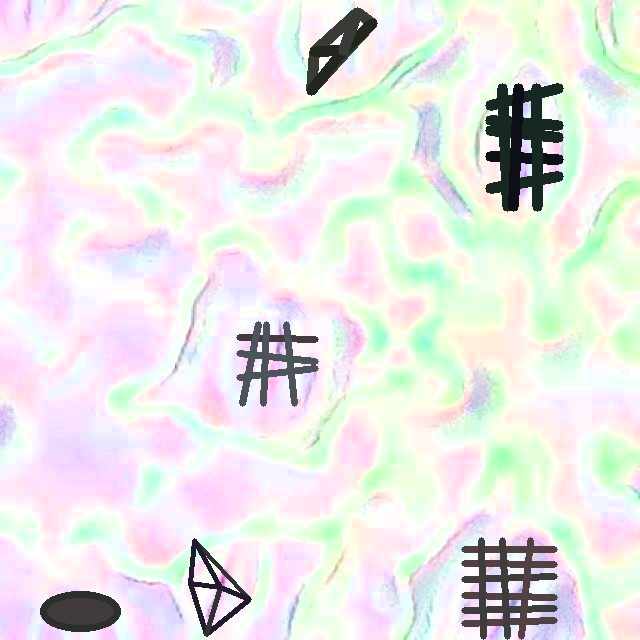close: (462, 537, 556, 639)
open: (485, 84, 562, 211), (236, 321, 318, 406), (188, 538, 251, 636), (309, 7, 377, 94), (41, 592, 119, 631)
